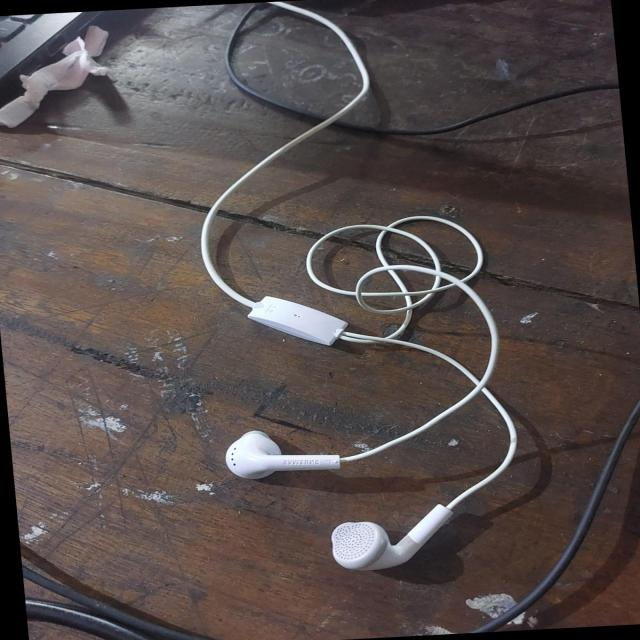earphone: (184, 20, 555, 598)
